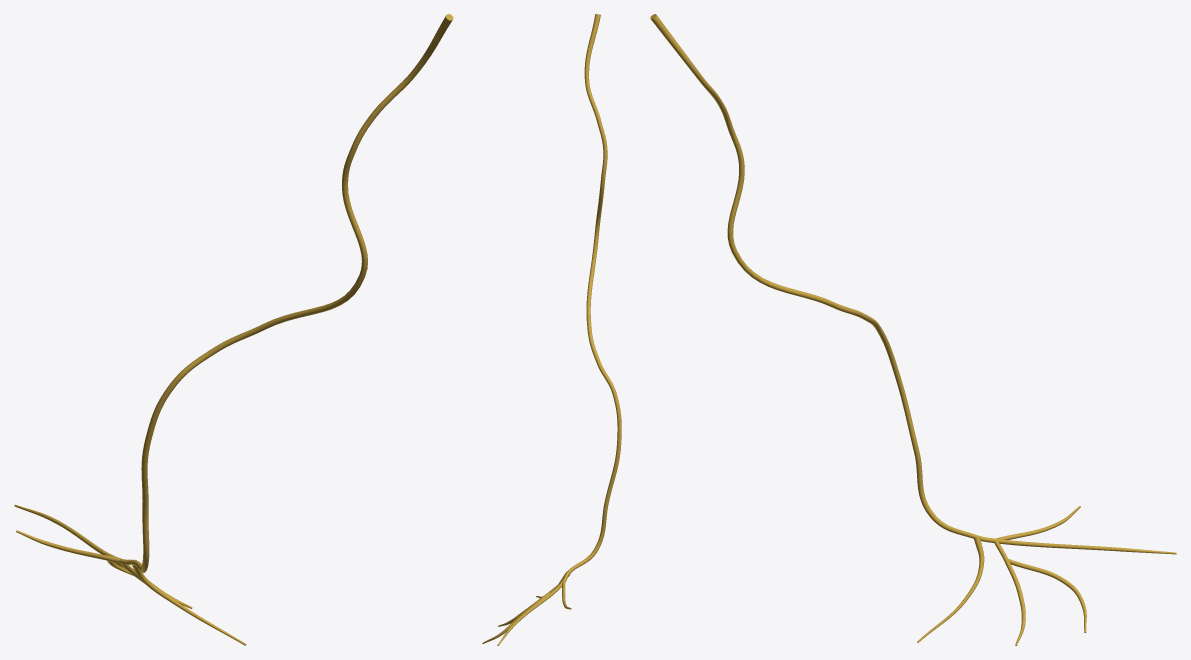
3 views of the same model, side by side, from view 1: azimuth 30°, elevation 25°; view 2: azimuth 150°, elevation 25°; view 3: azimuth 270°, elevation 25° (orthographic). The views are drawn at different scales.
Visible parts, largest first — view 1: 右侧上颌神经; view 2: 右侧上颌神经; view 3: 右侧上颌神经.
Boxes of the visible parts, x1,y1,x2,y2 form: 右侧上颌神经: (14,14,453,645); 右侧上颌神经: (482,14,621,645); 右侧上颌神经: (650,14,1176,645).
Size of the model in its own units: 0.033 by 0.1138 by 0.0827.
